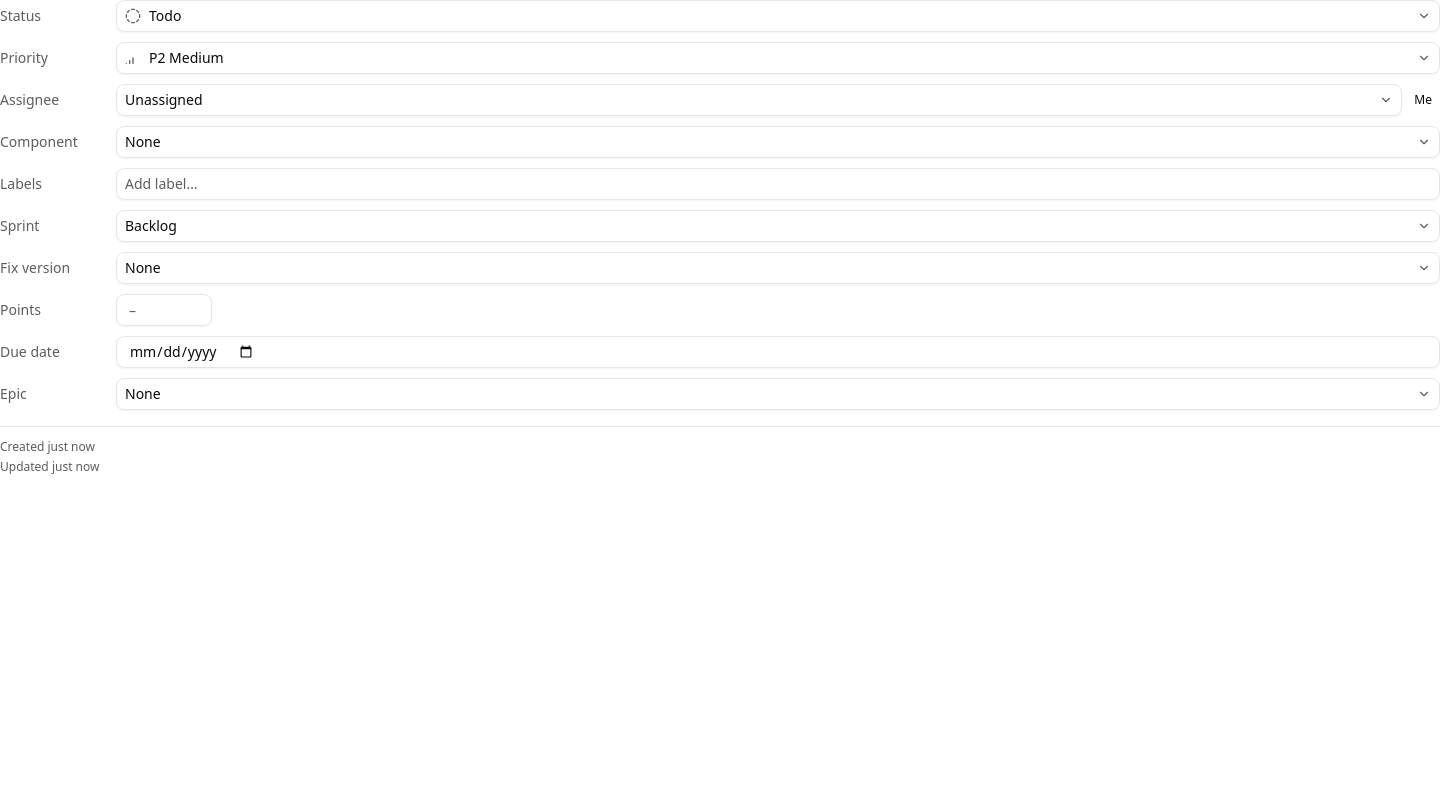
Test case: IssueFields side panel (ISS-5) with our pickers › adds an existing label and creates a new one, optimistically
Click the dropdown named "Labels" at (161,184), box [116,168,1439,200]
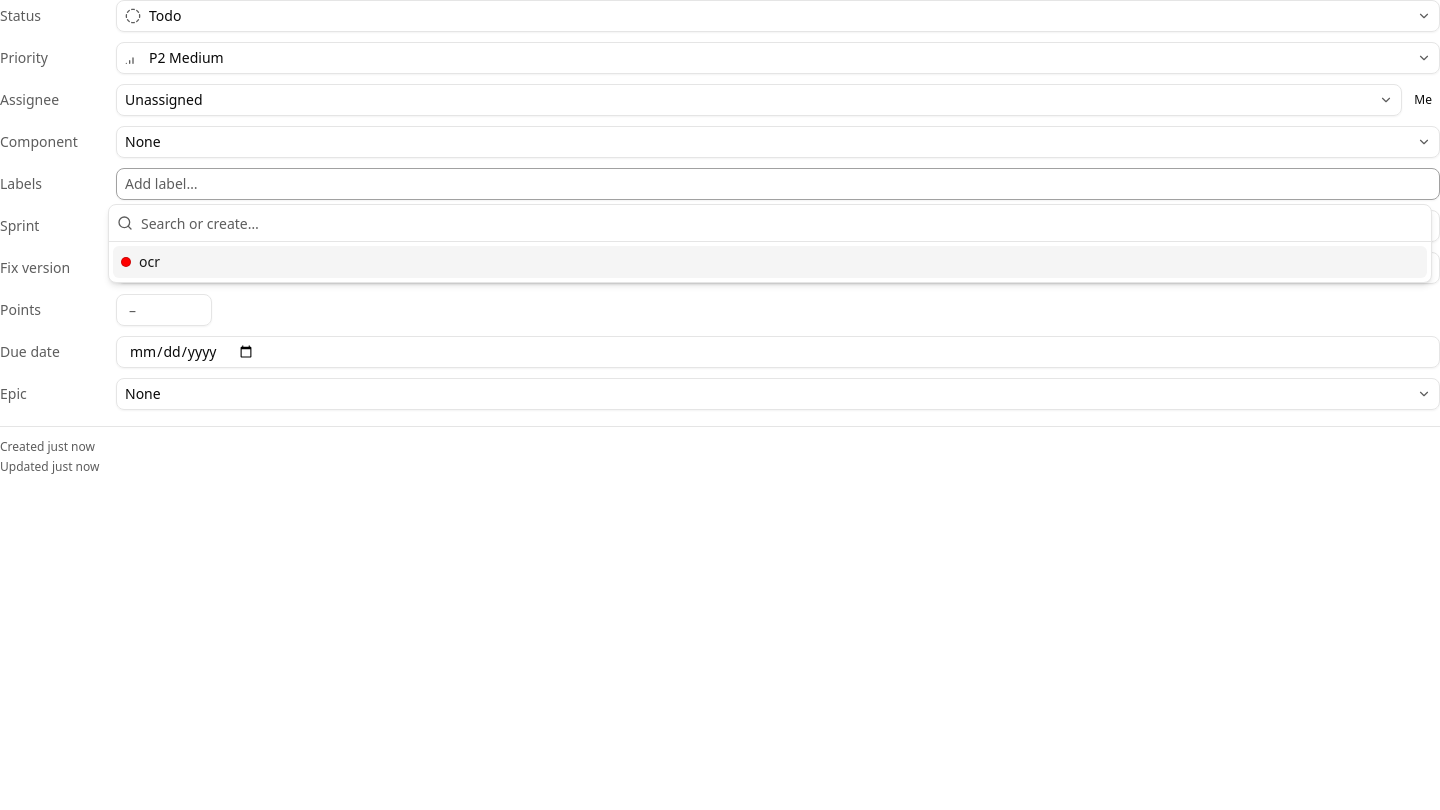
Click the option "ocr" at (126,262), box [113,246,1427,278]
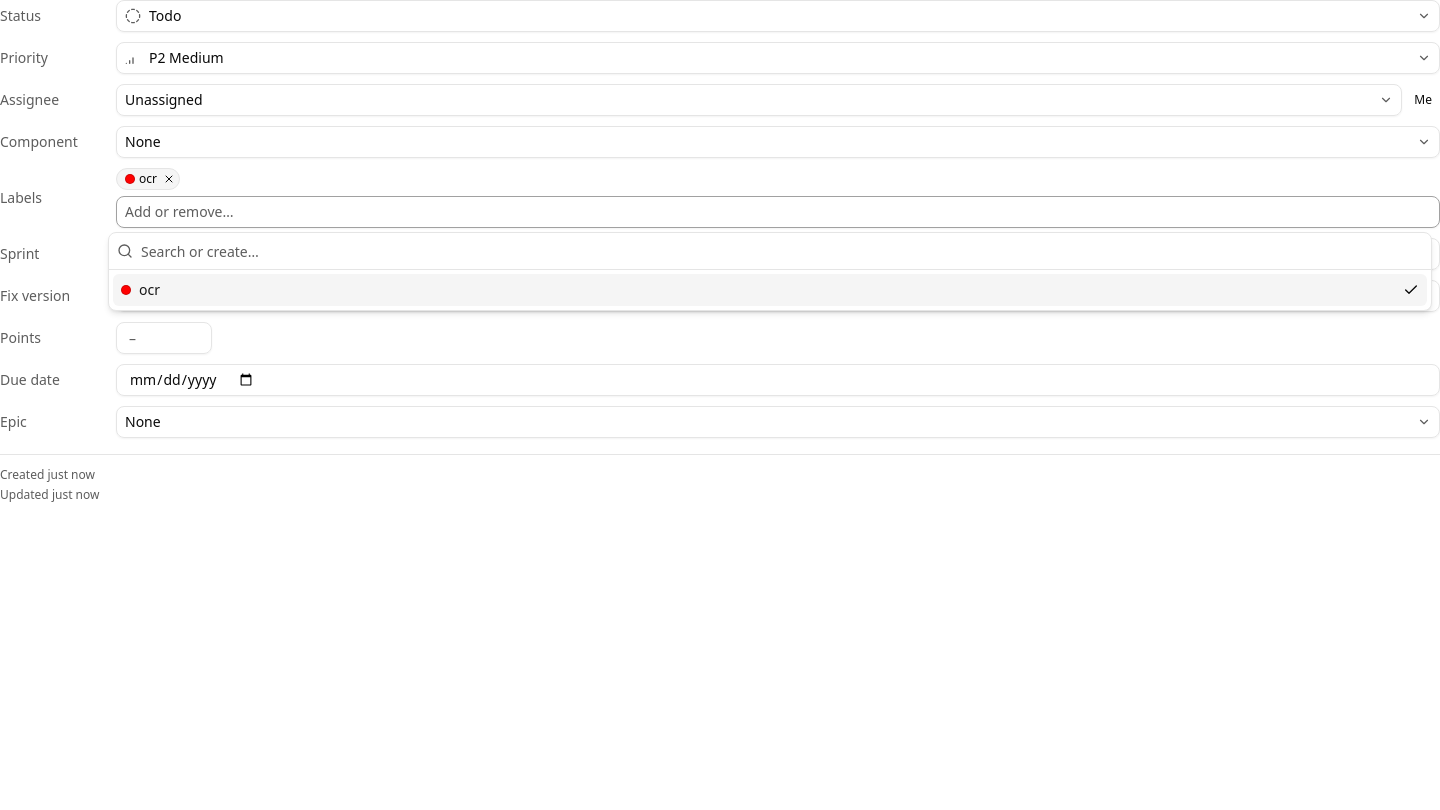
Now the list item "ocr" is shown, box [116,168,180,190]
Type keys "Needs Review"
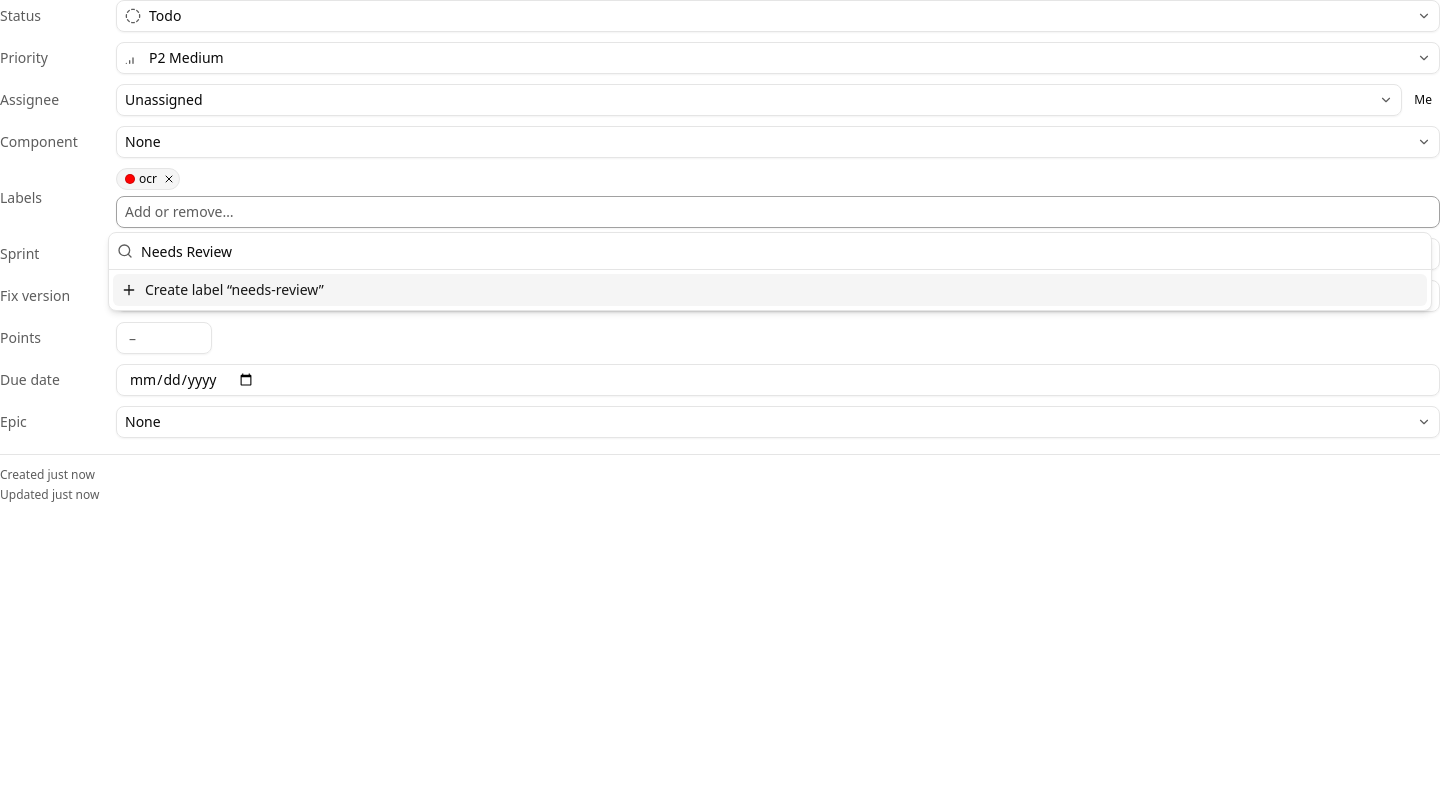
Click the option "Create label “needs-review”" at (234,290), box [113,274,1427,306]
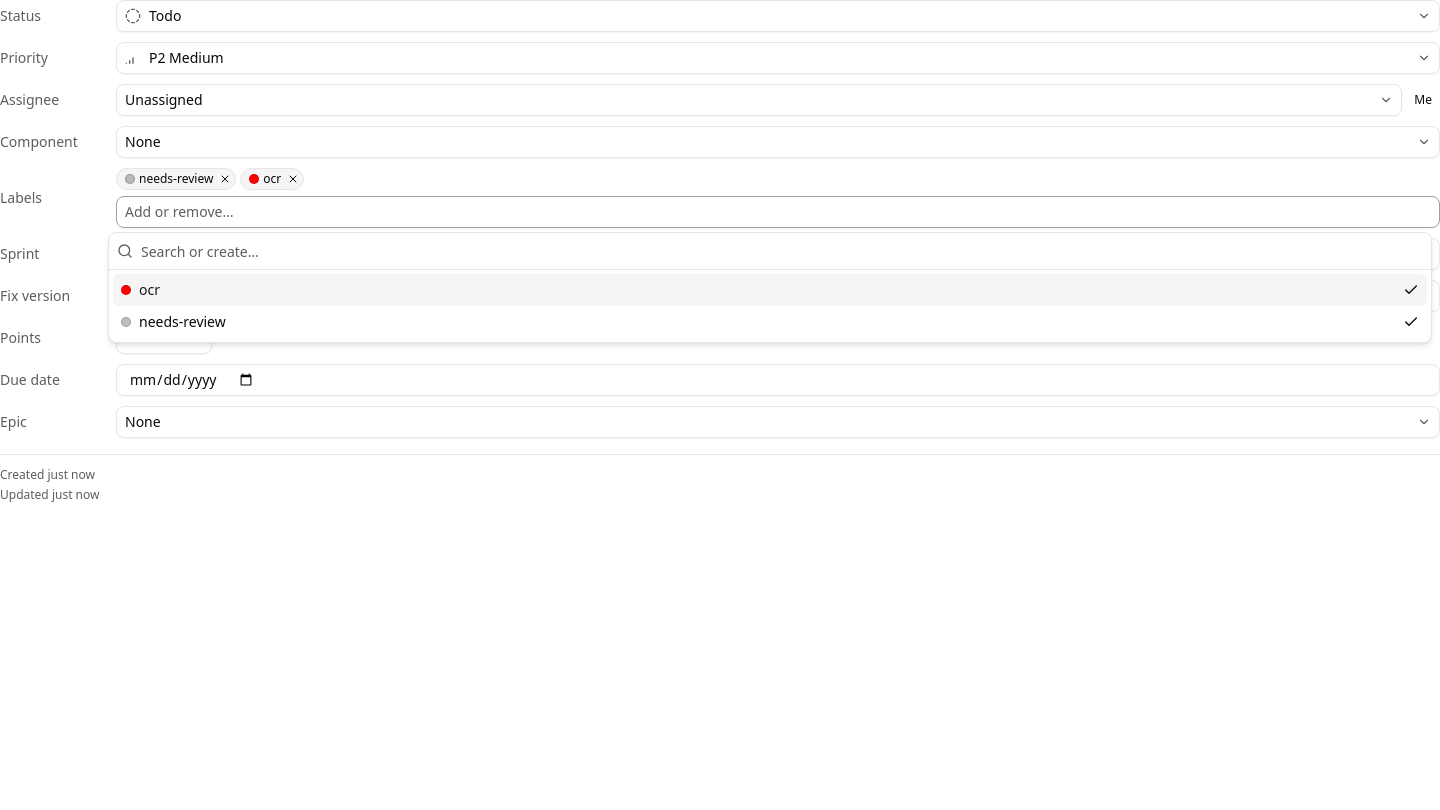
Now the list item "needs-review" is shown, box [116,168,236,190]
